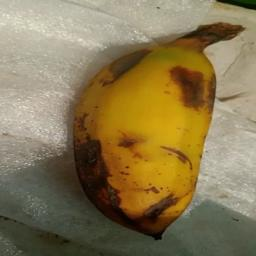Banana Semirotten: (62, 13, 245, 237)
